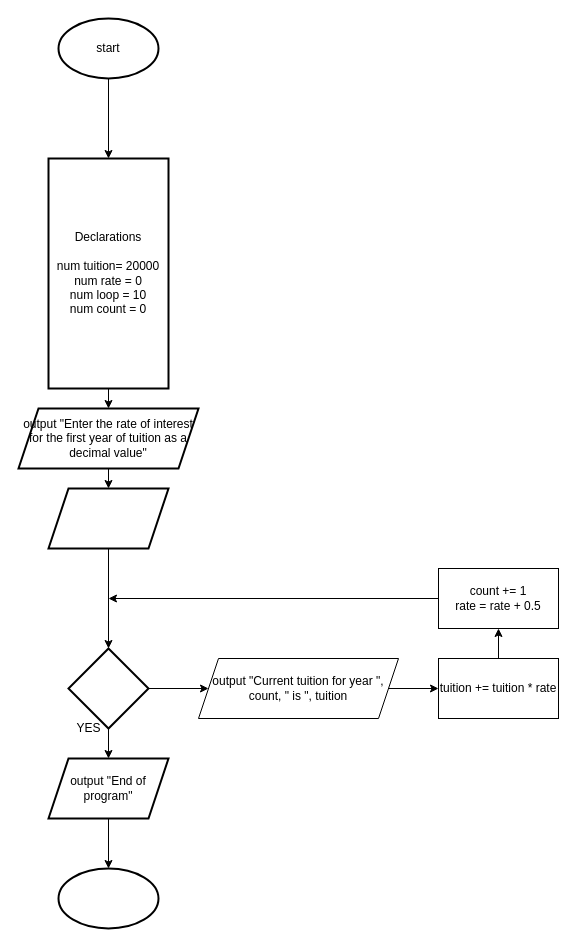
This 576x946 diagram has some shape labels left out. The box of each missing label's shape, as (x1, y1, x2, y2) in pixels:
count == loop: (67, 647, 149, 729)
input rate: (47, 487, 169, 549)
stop: (57, 867, 159, 929)
